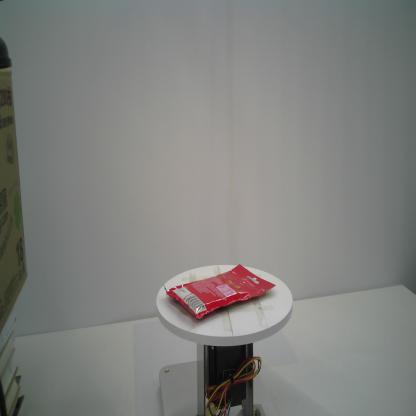Candy: (163, 264, 277, 320)
